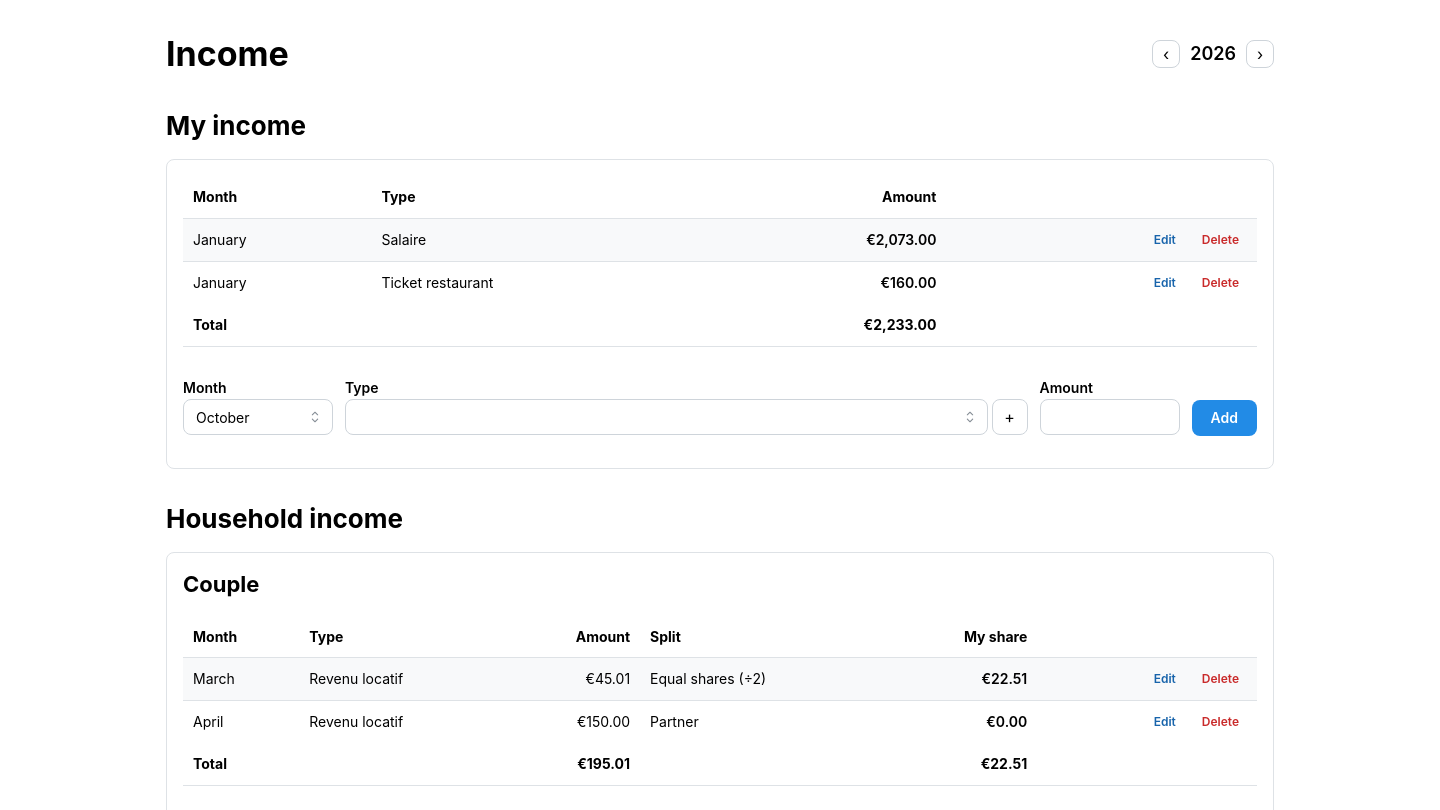
it: IncomesPage › loads the previous year
expect the text "€2,073.00" is shown: met, box [709,218,946,262]
Click the button "‹": (1166, 54) [1152,40,1180,68]
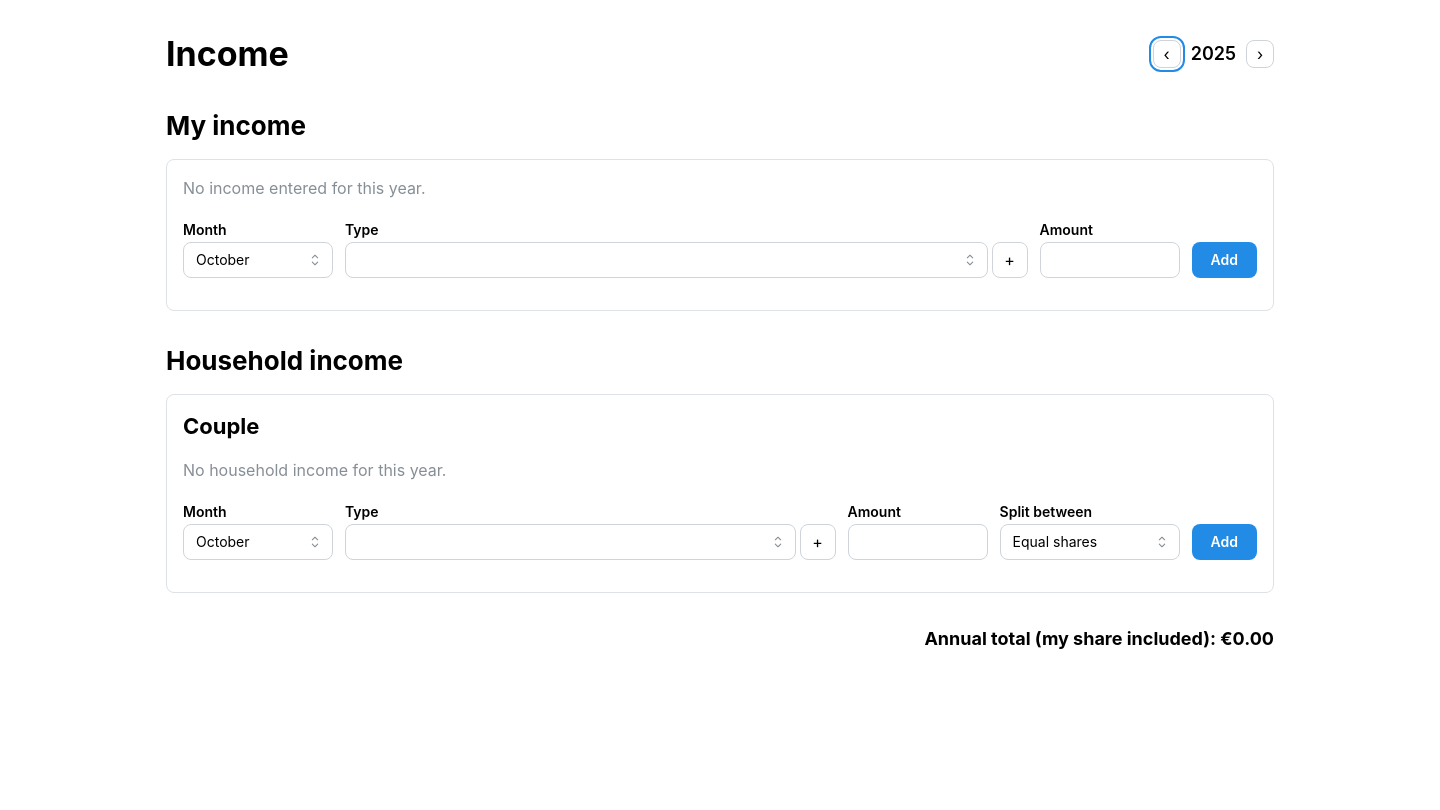
expect the text "2025" is shown: met, box [1191,40,1236,68]
expect the text "No income entered for this year." is shown: met, box [183,178,426,198]
